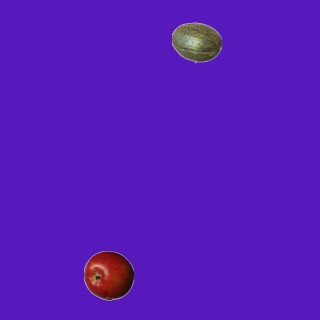Apple Braeburn: (83, 250, 133, 300)
Melon Piel de Sapo: (171, 17, 221, 67)
